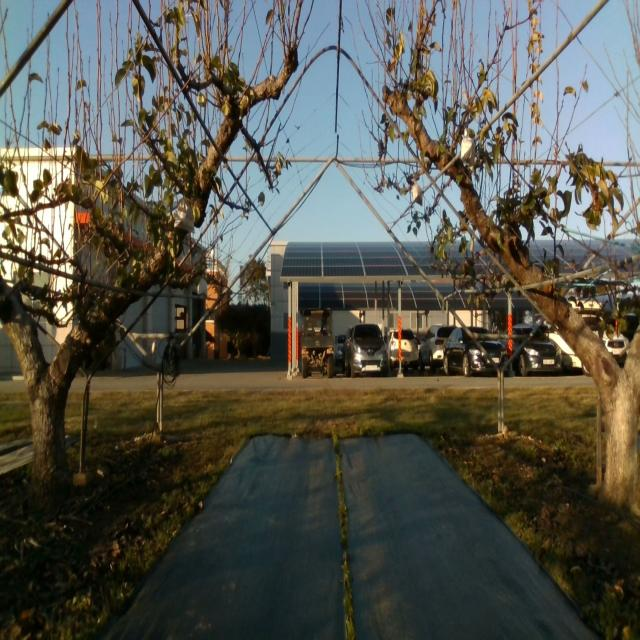pearbags: (174, 196, 195, 232), (460, 130, 474, 168), (413, 182, 423, 208)
